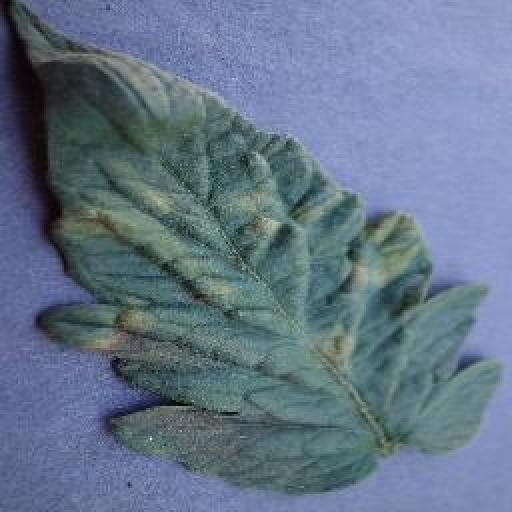Leaf Mold: (3, 0, 494, 496)
